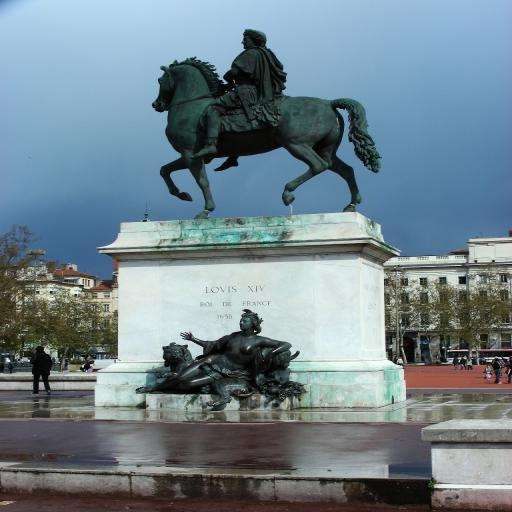horse: (150, 55, 384, 219)
